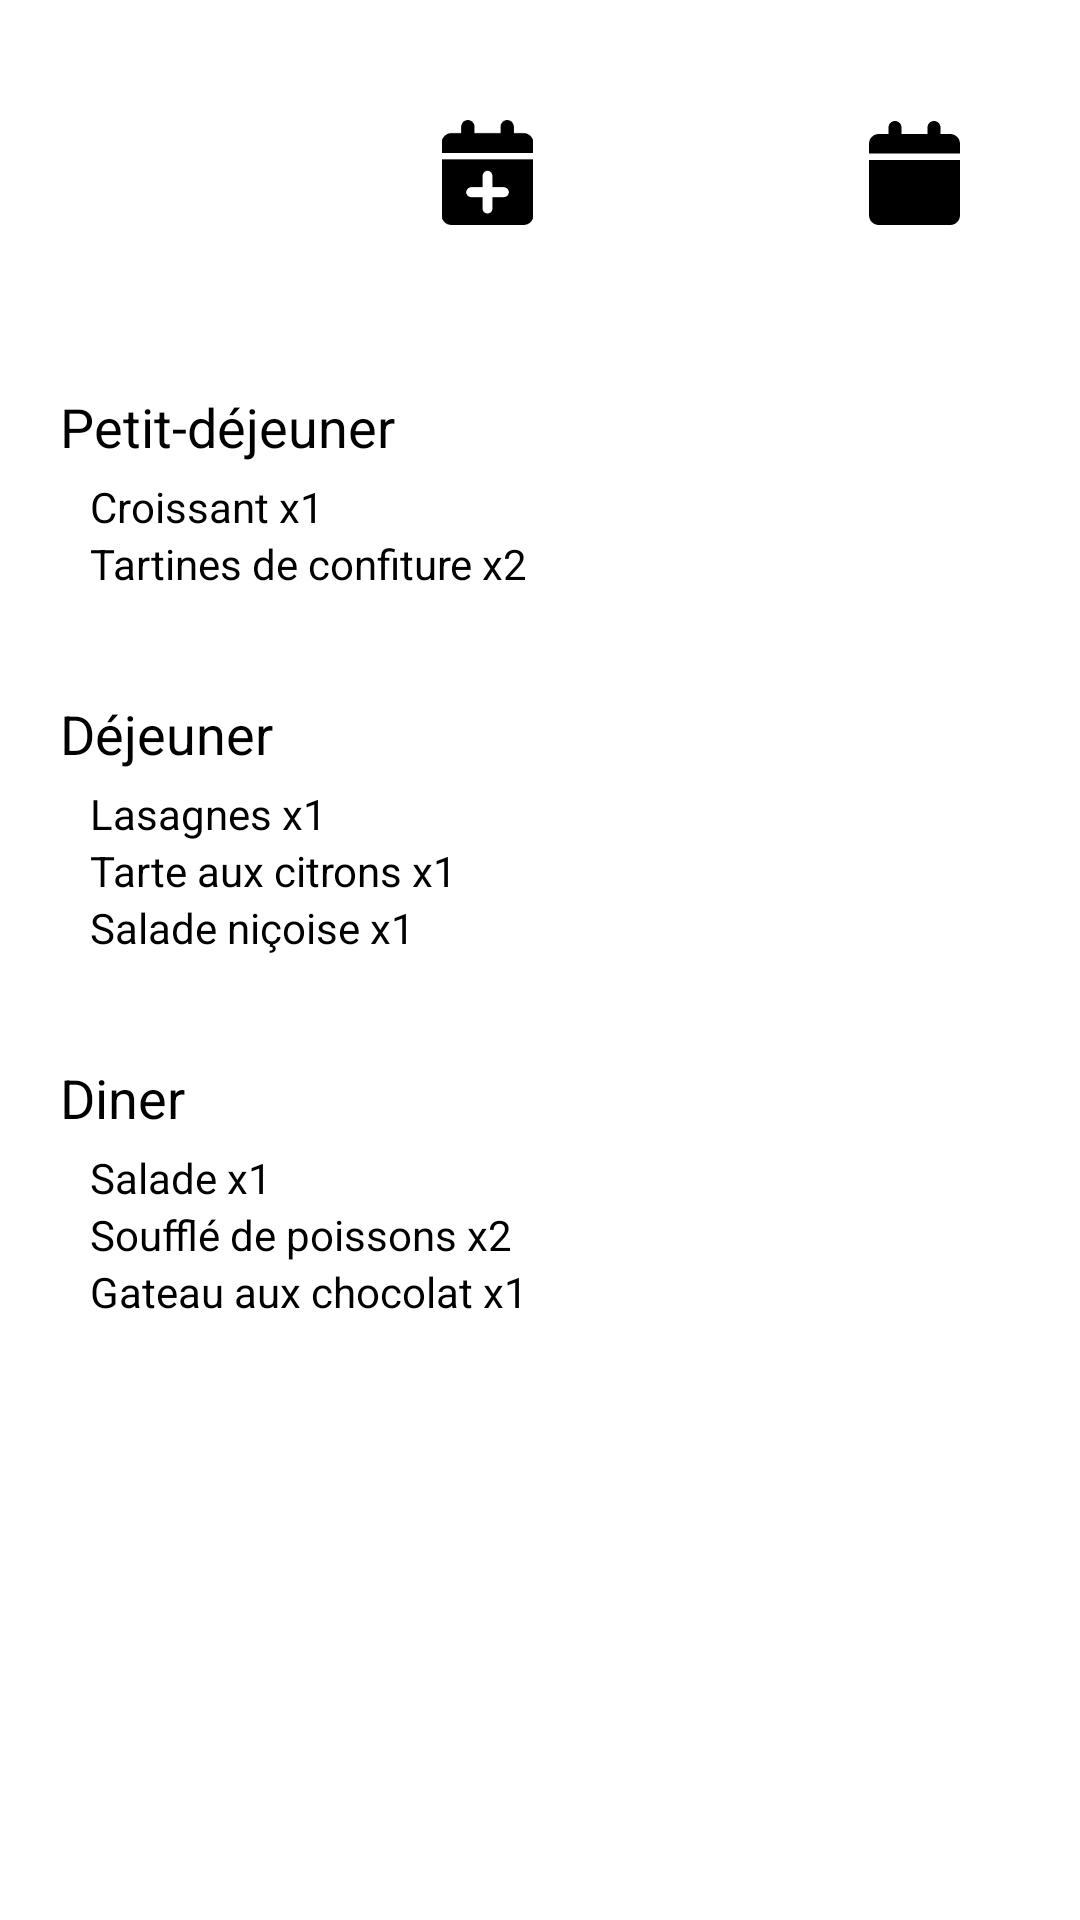

Screen size 1080px x 1920px. Icon name, then its box in pixels as region(x1, y1, x2, y2):
calendar: region(869, 121, 960, 225)
calendar plus: region(442, 120, 533, 225)
